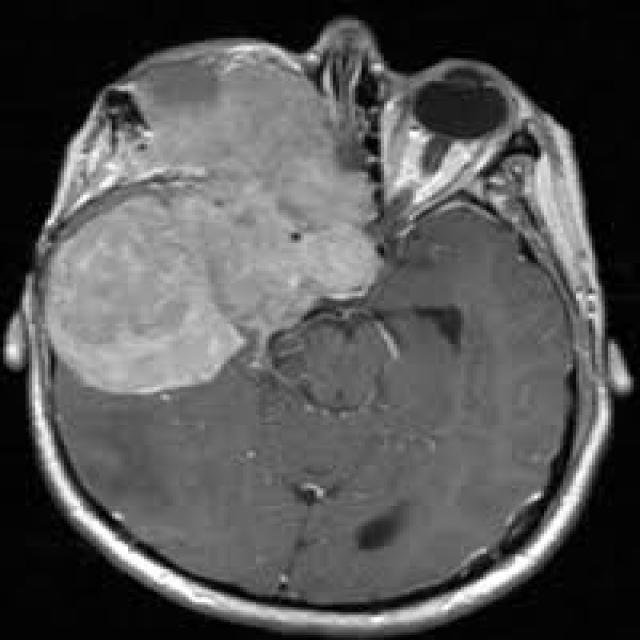Tumor-Cell: (24, 56, 346, 374), (377, 69, 555, 232)
